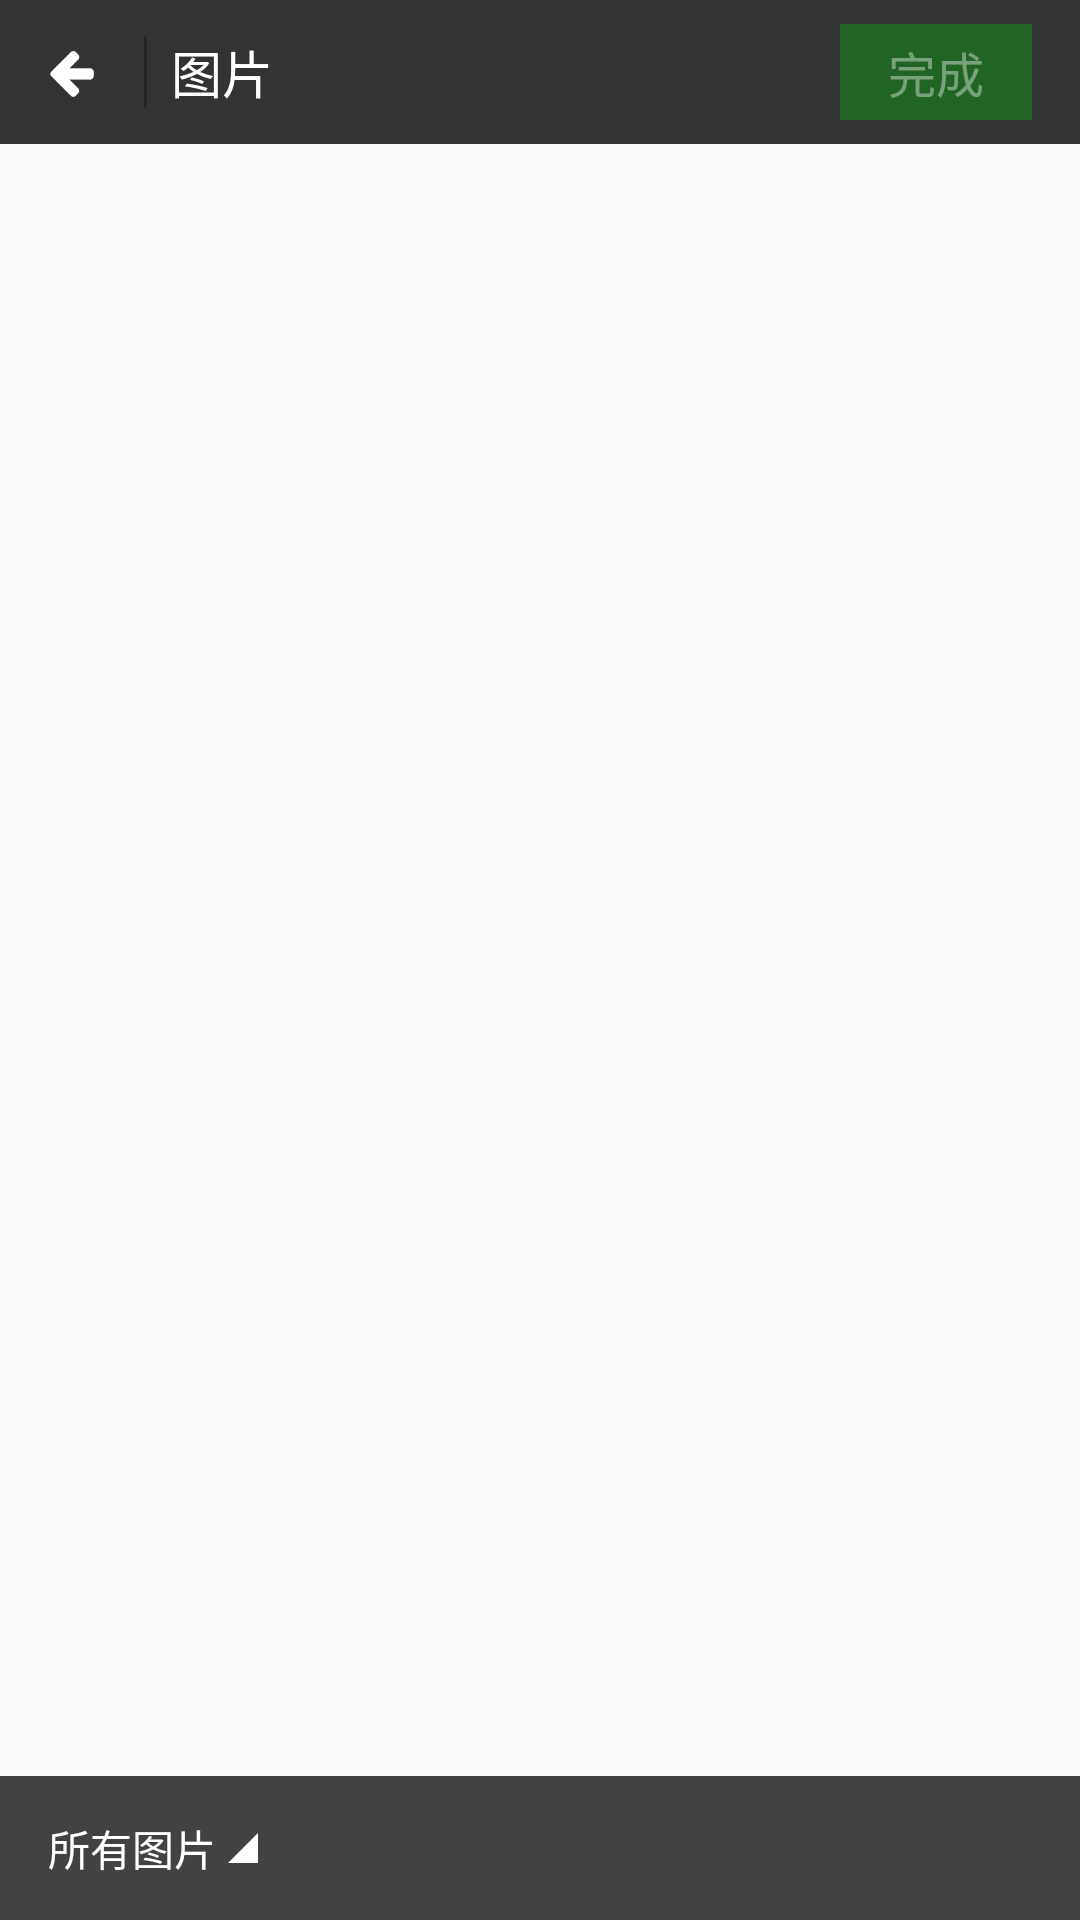

Icon click points for this 1080×1920 phone screenshot, format point (x, y):
back: point (72, 74)
lower right corner: point (243, 1848)
